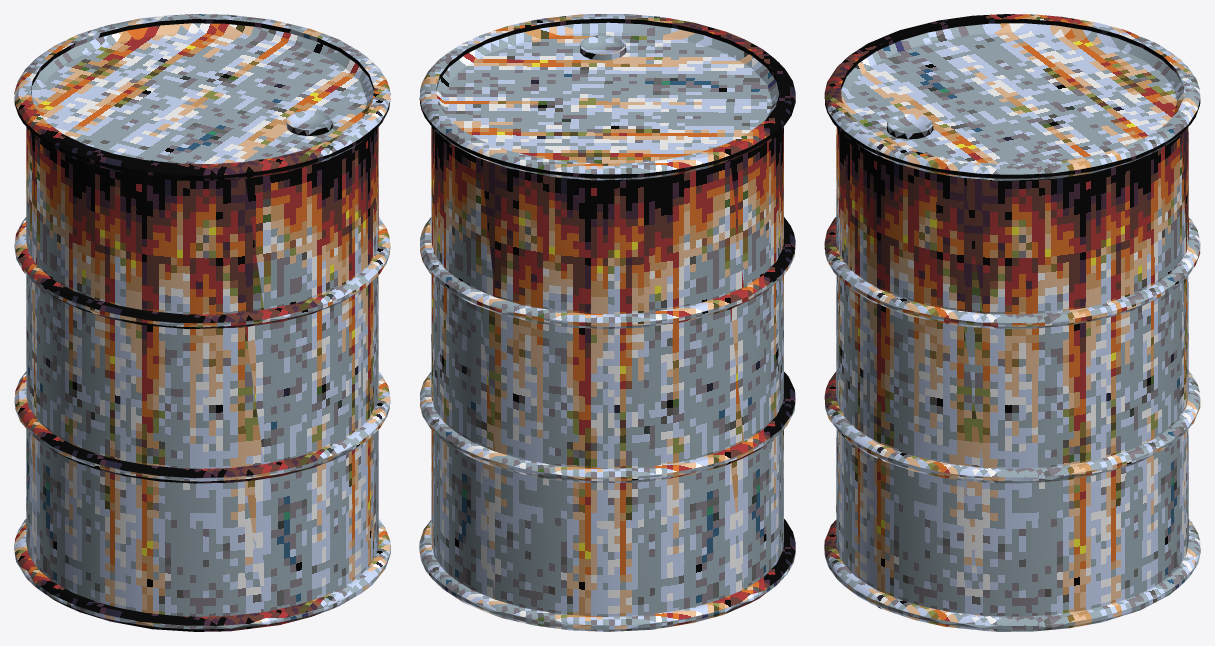
The model's file is Barrel 1.fbx.
3 views of the same model, side by side, from view 1: azimuth 30°, elevation 25°; view 2: azimuth 150°, elevation 25°; view 3: azimuth 270°, elevation 25° (orthographic).
Parts seen in each view (by area): view 1: Cylinder.106; view 2: Cylinder.106; view 3: Cylinder.106.
Part boxes in pixels (x1,y1,x2,y2): Cylinder.106: [14, 14, 390, 631]; Cylinder.106: [419, 14, 795, 631]; Cylinder.106: [824, 14, 1200, 631].
Bounding box in the file's own units: 126 × 170 × 126.
